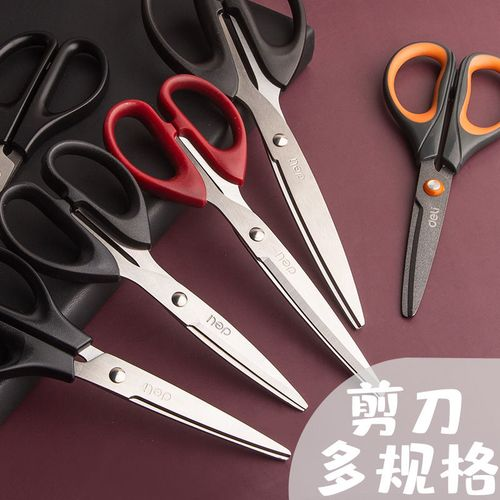scissor: (105, 72, 380, 389), (1, 139, 309, 412), (383, 41, 500, 323)
